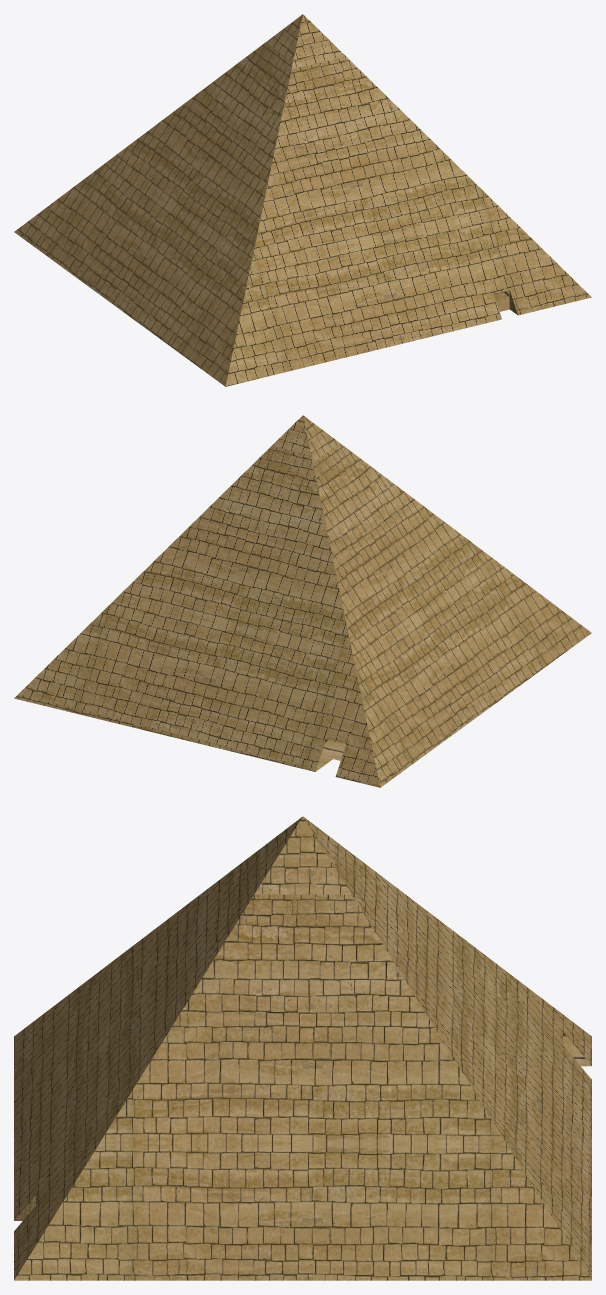
3 views of the same model, one above another, from view 1: azimuth 30°, elevation 25°; view 2: azimuth 150°, elevation 25°; view 3: azimuth 270°, elevation 25° (orthographic). The views are drawn at different scales.
Visible parts, largest first — view 1: 本体A.002; view 2: 本体A.002; view 3: 本体A.002.
Boxes of the visible parts, bbox=[...] form: 本体A.002: bbox=[14, 14, 591, 386]; 本体A.002: bbox=[14, 415, 591, 787]; 本体A.002: bbox=[14, 816, 591, 1280].
Bounding box in the file's own units: 15.39 × 10.06 × 15.39.
1 material, 1 textured.
